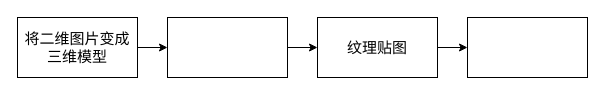
This 605x95 diagram has some shape labels left out. Each missing label, with the centre of its shape:
模型移至坐标系中心: the point at 527,47
每个房间创建群组并命名: the point at 227,47
